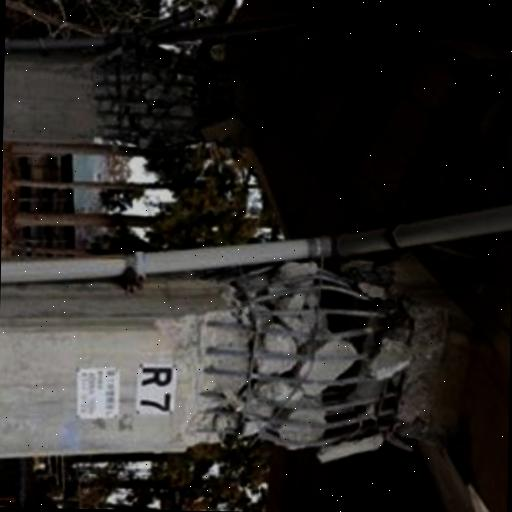spalling: (237, 13, 512, 227), (179, 270, 415, 450), (82, 42, 226, 148)
